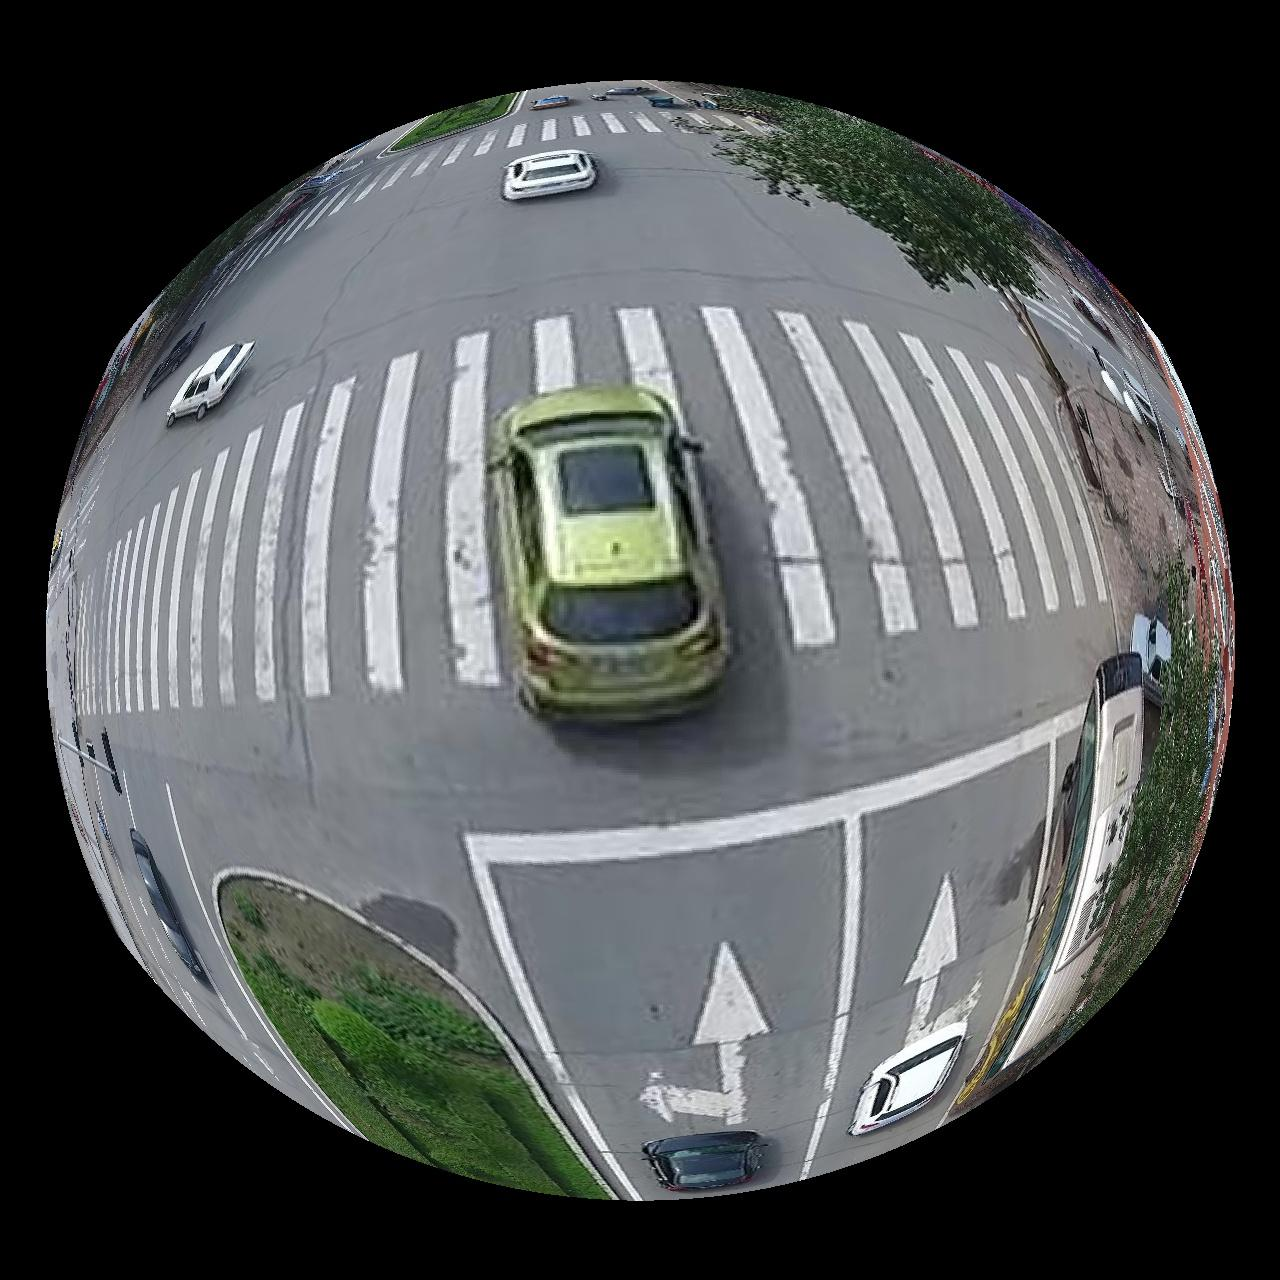cars: (488, 384, 728, 721), (165, 341, 254, 427), (504, 148, 595, 198)
trees: (246, 956, 605, 1199), (721, 89, 1046, 295)
